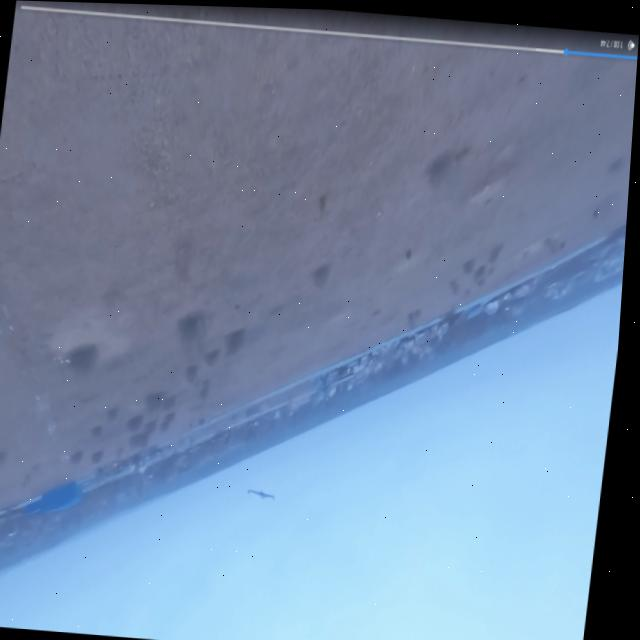planedrone: (241, 485, 279, 511)
